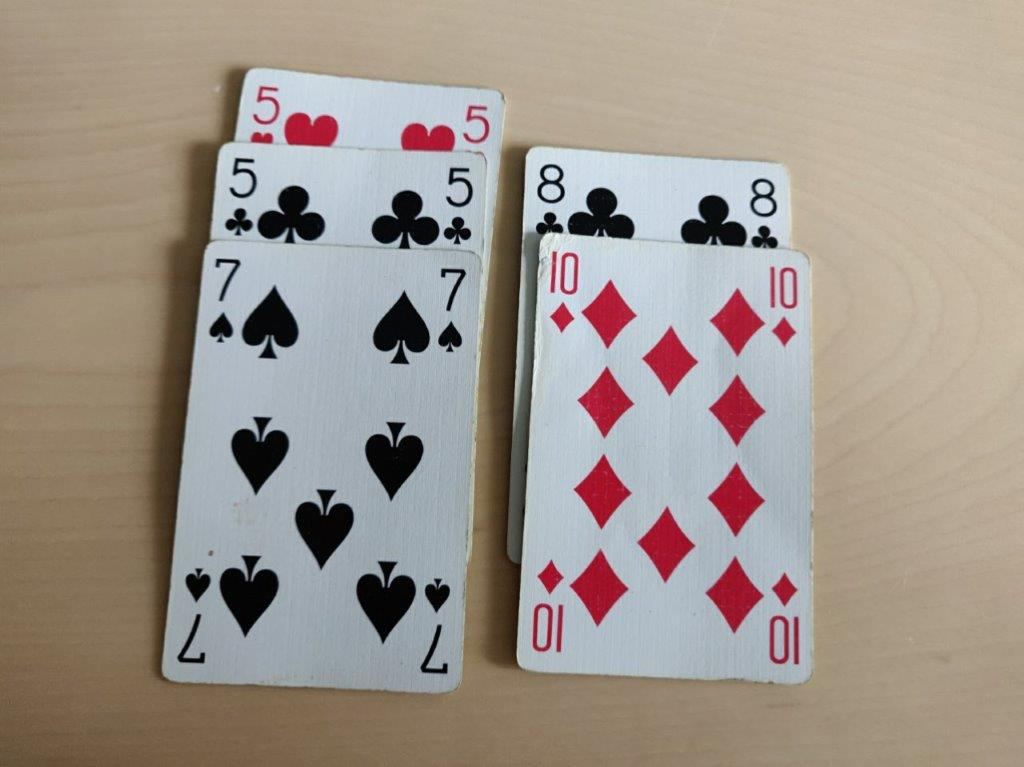10D: (759, 259, 801, 356), (544, 246, 582, 337)
5C: (216, 154, 259, 238), (435, 165, 478, 249)
5H: (242, 73, 282, 148)
7S: (198, 253, 243, 356), (430, 264, 475, 367)
8C: (526, 156, 577, 241), (737, 170, 788, 255)
